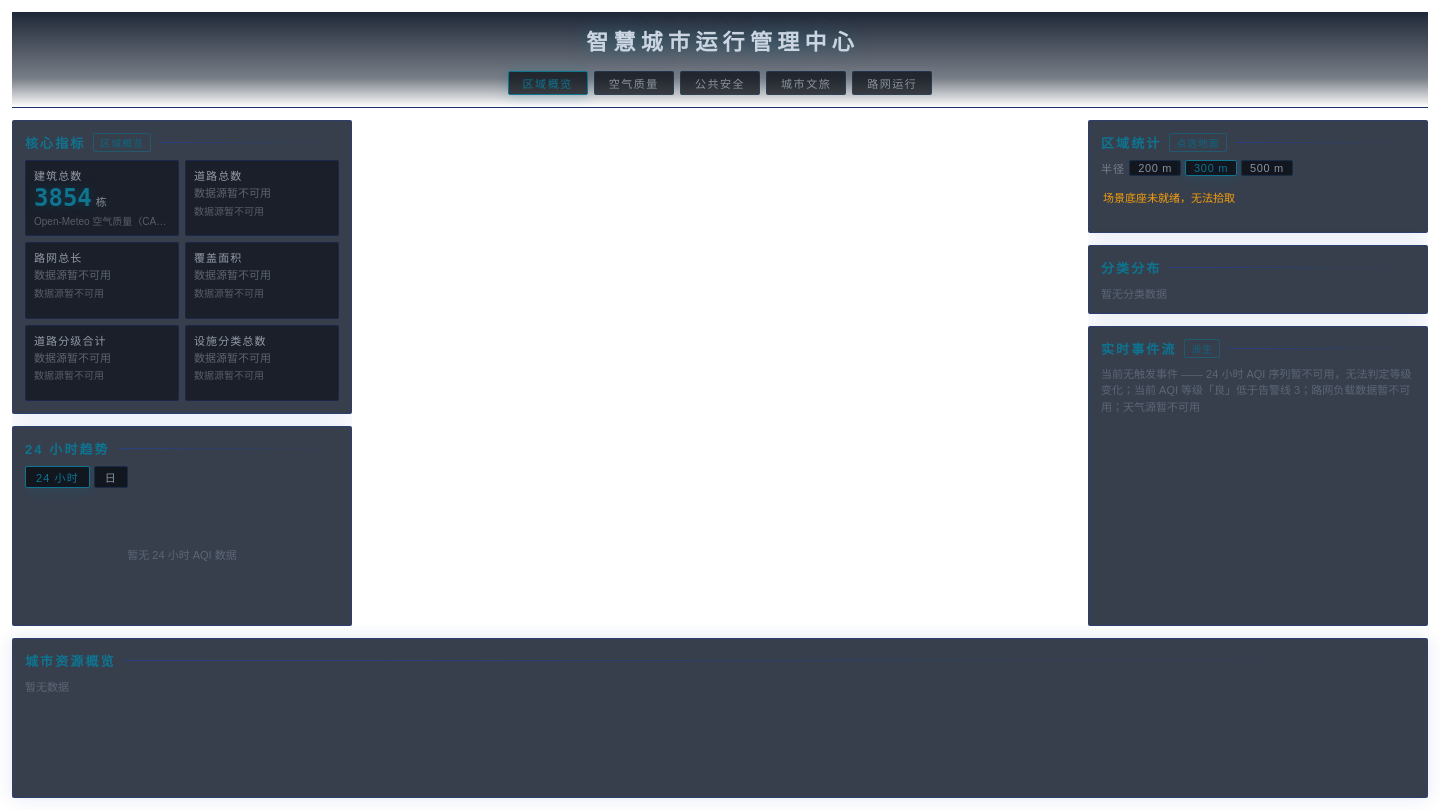
Test: DashboardOverlay › switches the metric cards when a tab is clicked
Click the tab with class "dc-tab" showing "空气质量": (634, 83) [594, 71, 674, 95]
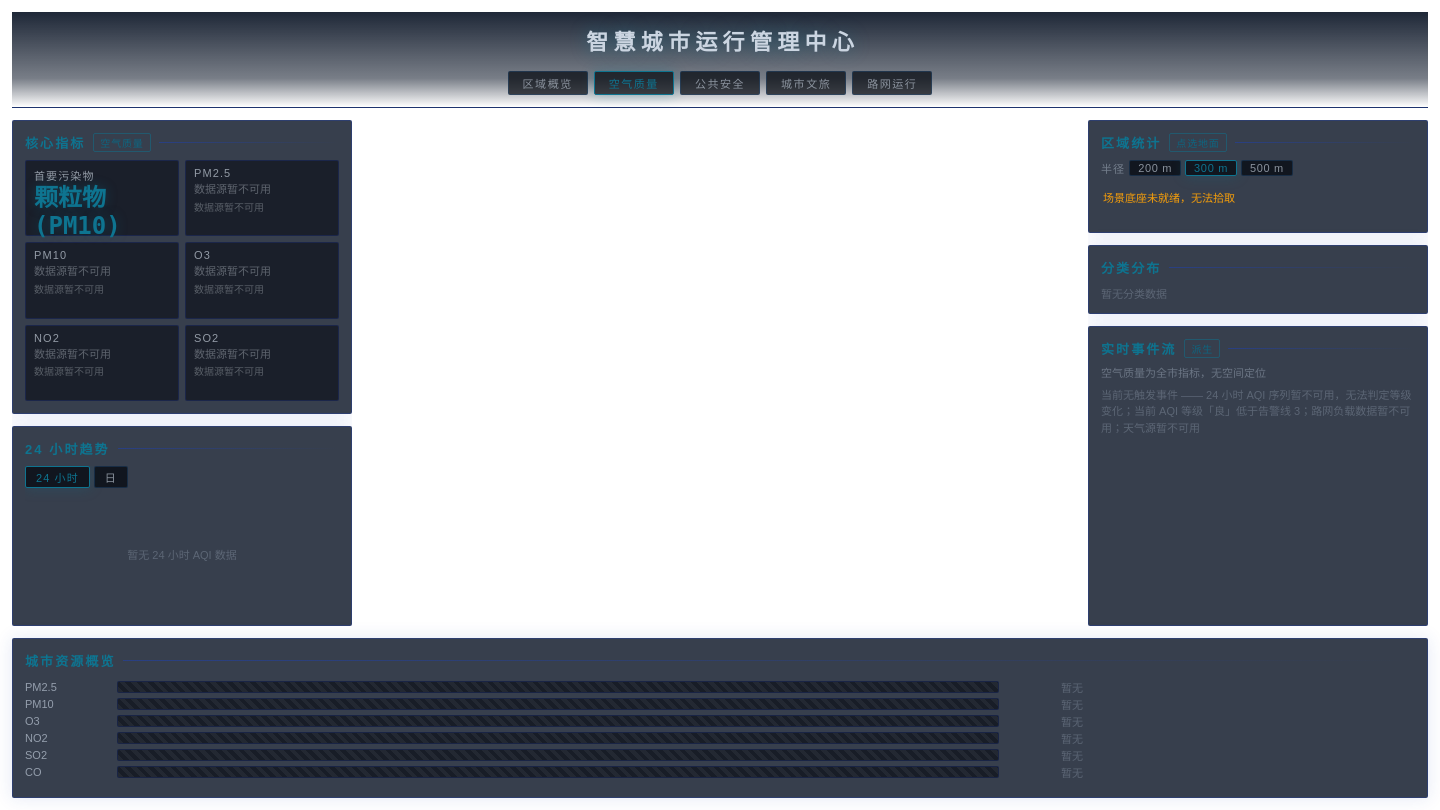
Now the text "首要污染物" is shown, box [34, 167, 94, 183]
Now the text "颗粒物(PM10)" is shown, box [34, 184, 121, 240]
